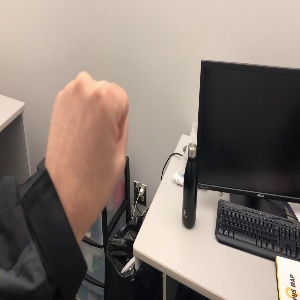hand: (44, 71, 128, 226)
